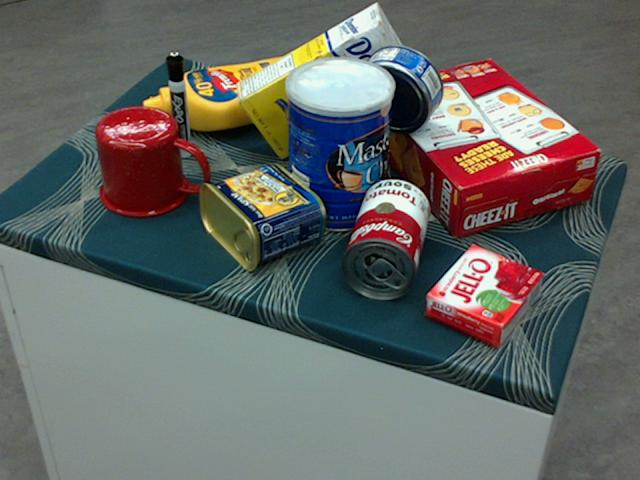cracker_box: (363, 58, 598, 237)
gelatin_box: (425, 243, 542, 345)
large_marker: (163, 52, 192, 158)
master_chef_can: (284, 58, 393, 234)
mug: (95, 106, 207, 218)
mustard_bottle: (141, 54, 315, 130)
potted_meat_can: (196, 163, 324, 271)
sugar_box: (232, 3, 419, 160)
tomato_soup_can: (338, 177, 431, 298)
tuna_fish_can: (354, 43, 443, 131)
